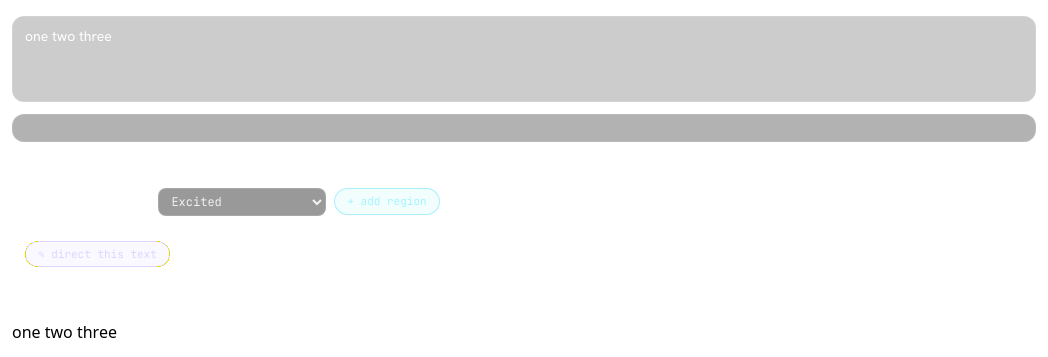
Test: ScoreEditor — the tagged string, seen and edited › refuses an empty selection with a sentence instead of an empty tag pair
The image size is (1048, 357).
Click the button "+ add region" at point(387, 202), box [334,188,440,215]
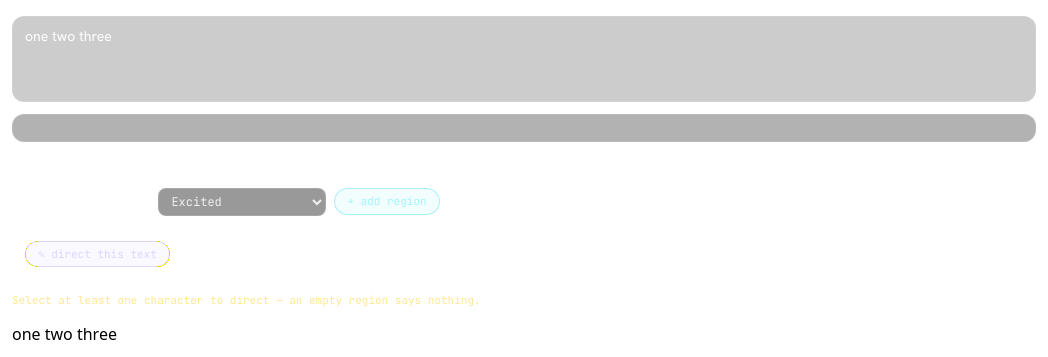
Expected: the text "one two three" below "score ·" is shown, [25,27,112,45]
Expected: the text "at least one character" is shown, [12,293,481,307]
